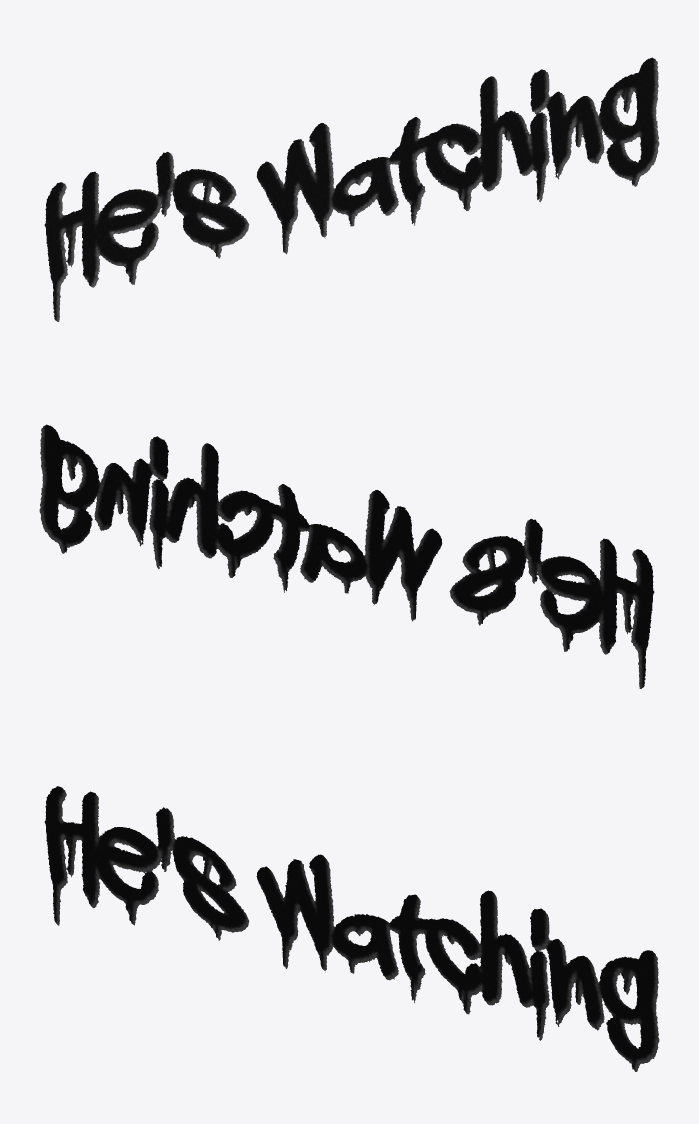
File: graffiti_mx_4.fbx
The picture shows the model from 3 angles, top to bottom: view 1: azimuth 30°, elevation 25°; view 2: azimuth 150°, elevation 25°; view 3: azimuth 330°, elevation 25°; orthographic projection.
Visible parts, largest first — view 1: graffiti_mx_4; view 2: graffiti_mx_4; view 3: graffiti_mx_4.
Part boxes in pixels (x1=…): graffiti_mx_4: x1=44, y1=57, x2=659, y2=321; graffiti_mx_4: x1=39, y1=424, x2=654, y2=688; graffiti_mx_4: x1=44, y1=786, x2=659, y2=1071.
Size of the model in its own units: 3.75 by 4.37e-08 by 1.06.
